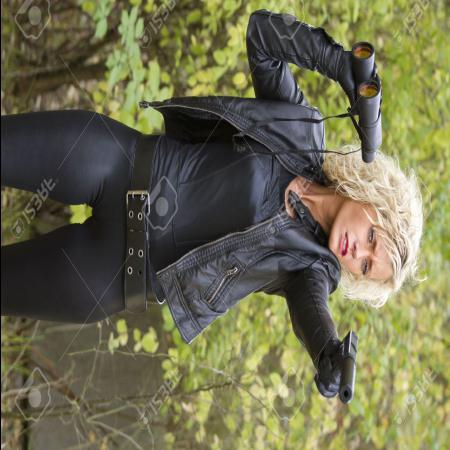Pistol: (324, 332, 356, 404)
